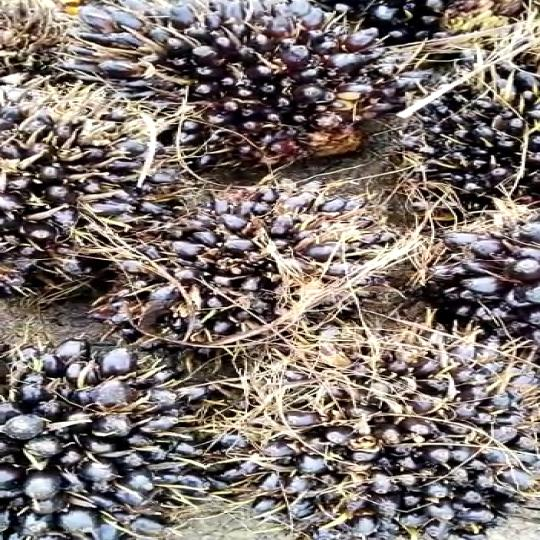mentah: (53, 0, 430, 169), (0, 66, 209, 321), (0, 333, 264, 533), (276, 333, 530, 537)
